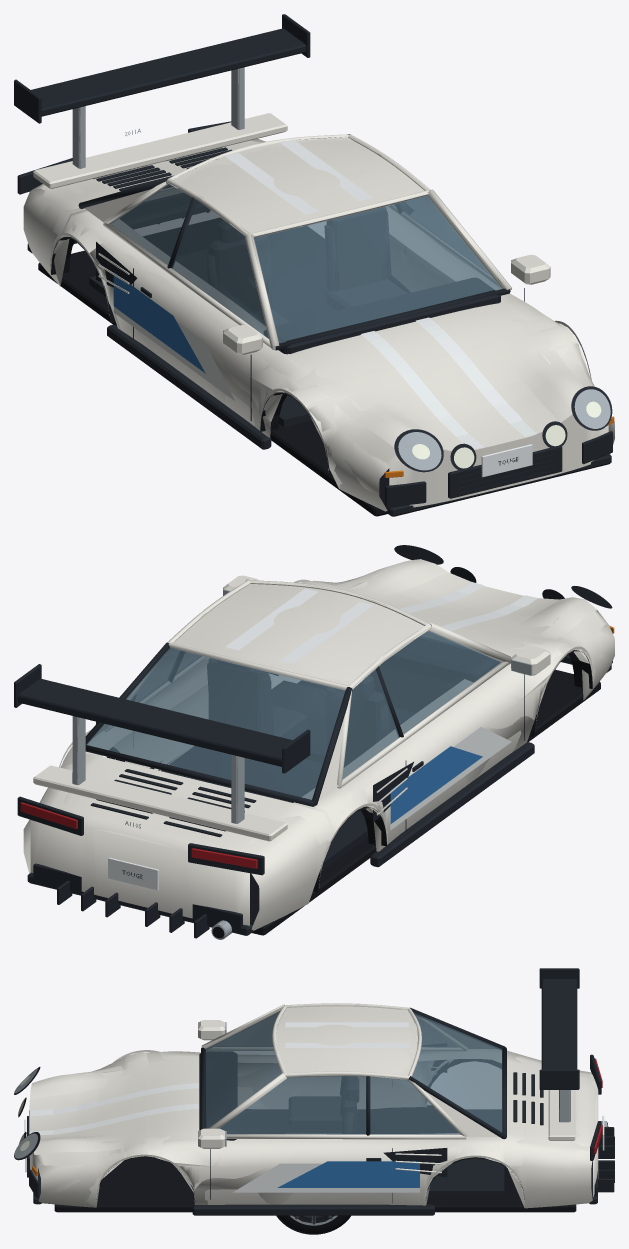
The picture shows the model from 3 angles, top to bottom: view 1: azimuth 30°, elevation 25°; view 2: azimuth 150°, elevation 25°; view 3: azimuth 270°, elevation 25°; orthographic projection. The views are drawn at different scales.
Visible parts, largest first — view 1: LOD0_body, LOD0_cabin, LOD0_glass, LOD1_glass, LOD1_body, LOD0_hood, LOD1_hood, LOD1_spoiler_gt, LOD0_spoiler_gt, LOD0_vinyl_apex, LOD1_spoiler_stock, LOD1_vinyl_twin (+3 smaller); view 2: LOD0_body, LOD0_cabin, LOD1_body, LOD0_glass, LOD1_glass, LOD1_spoiler_gt, LOD0_spoiler_gt, LOD0_hood, LOD1_hood, LOD0_vinyl_apex, LOD1_cabin, LOD1_spoiler_stock (+3 smaller); view 3: LOD0_body, LOD0_cabin, LOD1_body, LOD0_glass, LOD1_glass, LOD0_hood, LOD1_cabin, LOD0_vinyl_apex, LOD1_hood, LOD1_spoiler_gt, LOD0_vinyl_twin, LOD0_spoiler_gt (+4 smaller).
Part boxes in pixels (<box>): LOD0_body: <box>17,122,614,516</box>; LOD0_cabin: <box>78,134,511,426</box>; LOD0_glass: <box>111,184,502,342</box>; LOD1_glass: <box>111,184,501,343</box>; LOD1_body: <box>19,121,614,516</box>; LOD0_hood: <box>281,300,583,450</box>; LOD1_hood: <box>330,323,573,450</box>; LOD1_spoiler_gt: <box>14,28,309,168</box>; LOD0_spoiler_gt: <box>14,14,310,168</box>; LOD0_vinyl_apex: <box>113,241,462,400</box>; LOD1_spoiler_stock: <box>33,113,287,188</box>; LOD1_vinyl_twin: <box>225,140,537,449</box>; LOD0_body: <box>18,545,614,939</box>; LOD0_cabin: <box>85,578,510,871</box>; LOD1_body: <box>17,545,614,939</box>; LOD0_glass: <box>87,630,500,799</box>; LOD1_glass: <box>86,631,501,799</box>; LOD1_spoiler_gt: <box>16,664,298,823</box>; LOD0_spoiler_gt: <box>14,664,310,823</box>; LOD0_hood: <box>325,559,596,657</box>; LOD1_hood: <box>349,562,562,642</box>; LOD0_vinyl_apex: <box>189,660,511,830</box>; LOD1_cabin: <box>86,579,507,870</box>; LOD1_spoiler_stock: <box>33,765,286,840</box>; LOD0_body: <box>14,1020,614,1215</box>; LOD0_cabin: <box>199,1003,506,1196</box>; LOD1_body: <box>15,1020,607,1215</box>; LOD0_glass: <box>205,1010,502,1134</box>; LOD1_glass: <box>205,1011,502,1134</box>; LOD0_hood: <box>29,1056,199,1154</box>; LOD1_cabin: <box>200,1004,506,1196</box>; LOD0_vinyl_apex: <box>233,1161,419,1192</box>; LOD1_hood: <box>29,1065,195,1142</box>; LOD1_spoiler_gt: <box>540,970,579,1121</box>; LOD0_vinyl_twin: <box>32,1022,408,1134</box>; LOD0_spoiler_gt: <box>539,968,579,1122</box>.
Bounding box in the file's own units: 2.06 × 1.71 × 4.41.
